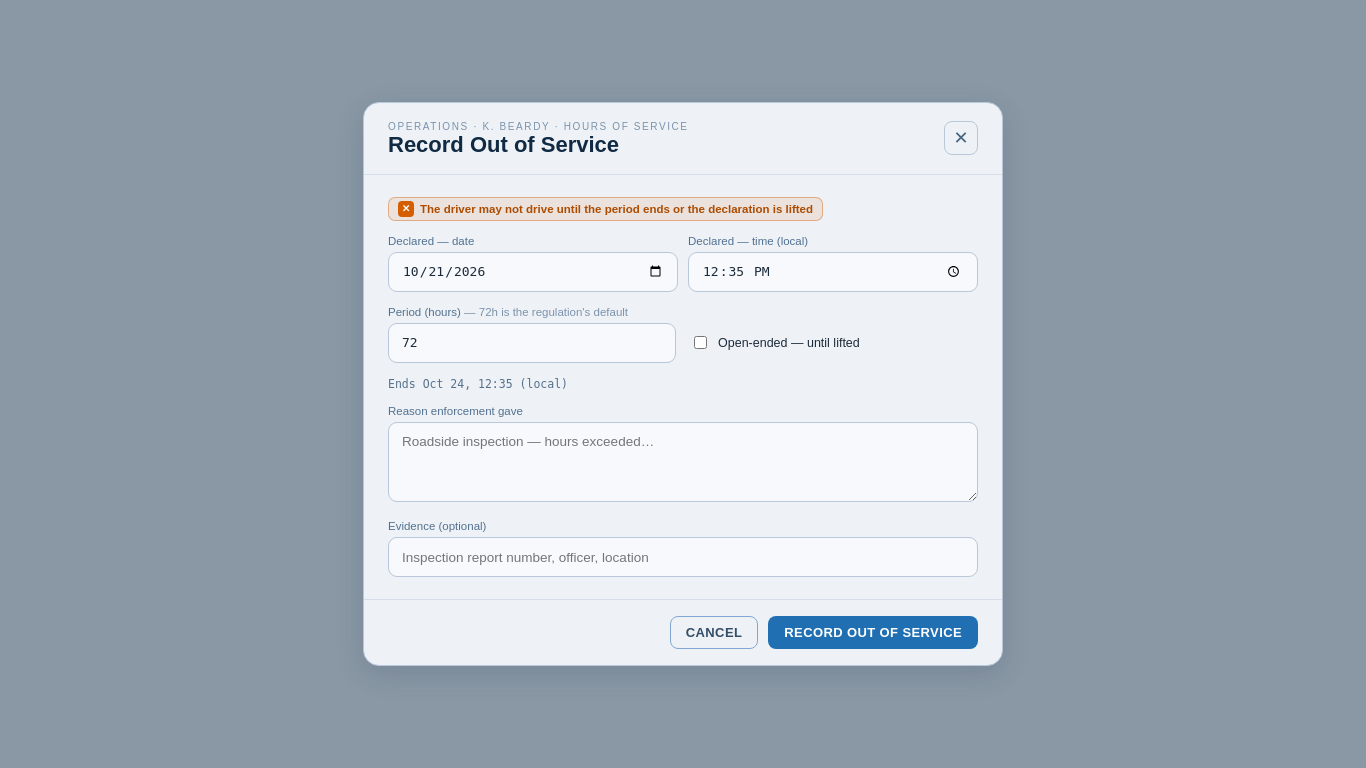
Test: RecordOutOfServiceModal › shows the 409 Drivers.Hos.AlreadyOutOfService sentence verbatim
Type "Hours exceeded" into the text box with placeholder "Roadside inspection — hours exceeded…" at {"x": 683, "y": 462}, box left=388, top=422, right=978, bottom=502
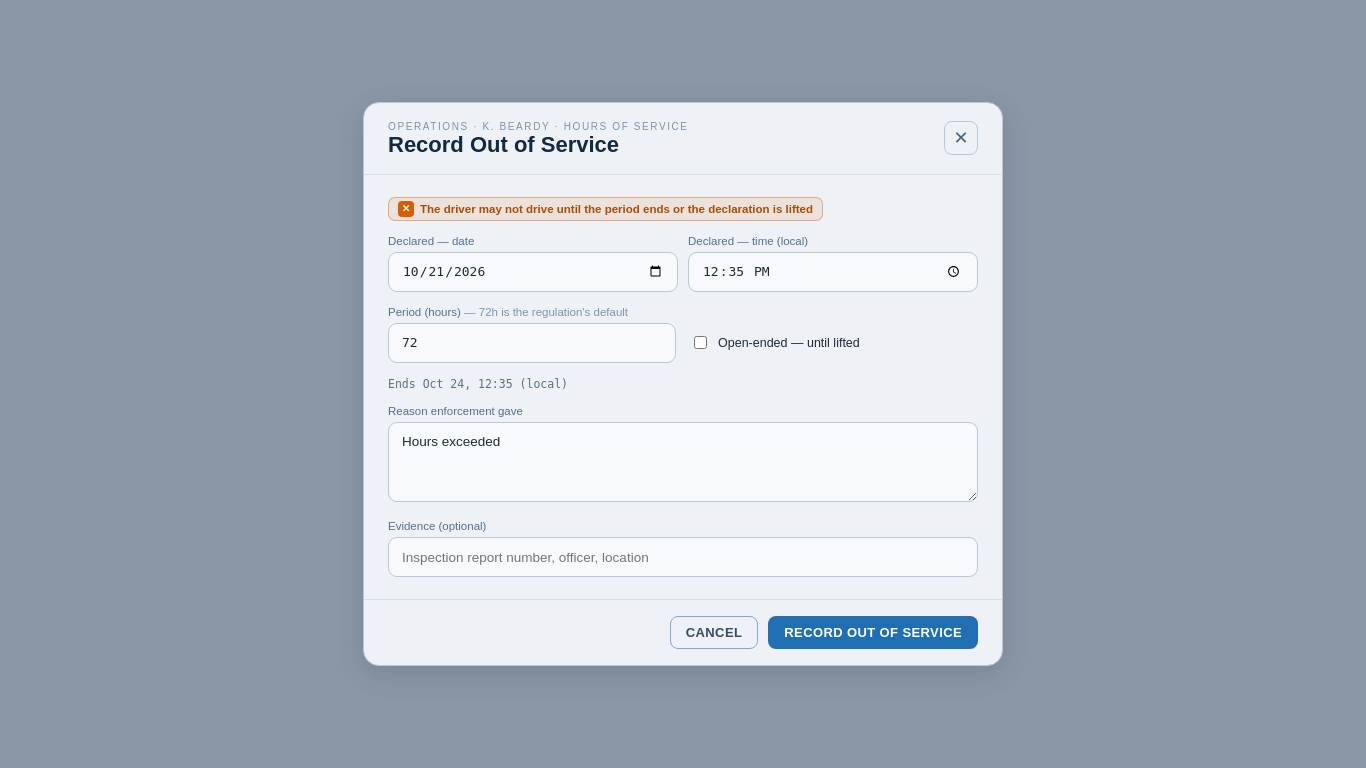
Click the text "RECORD OUT OF SERVICE" at {"x": 873, "y": 633}, box left=768, top=616, right=978, bottom=649
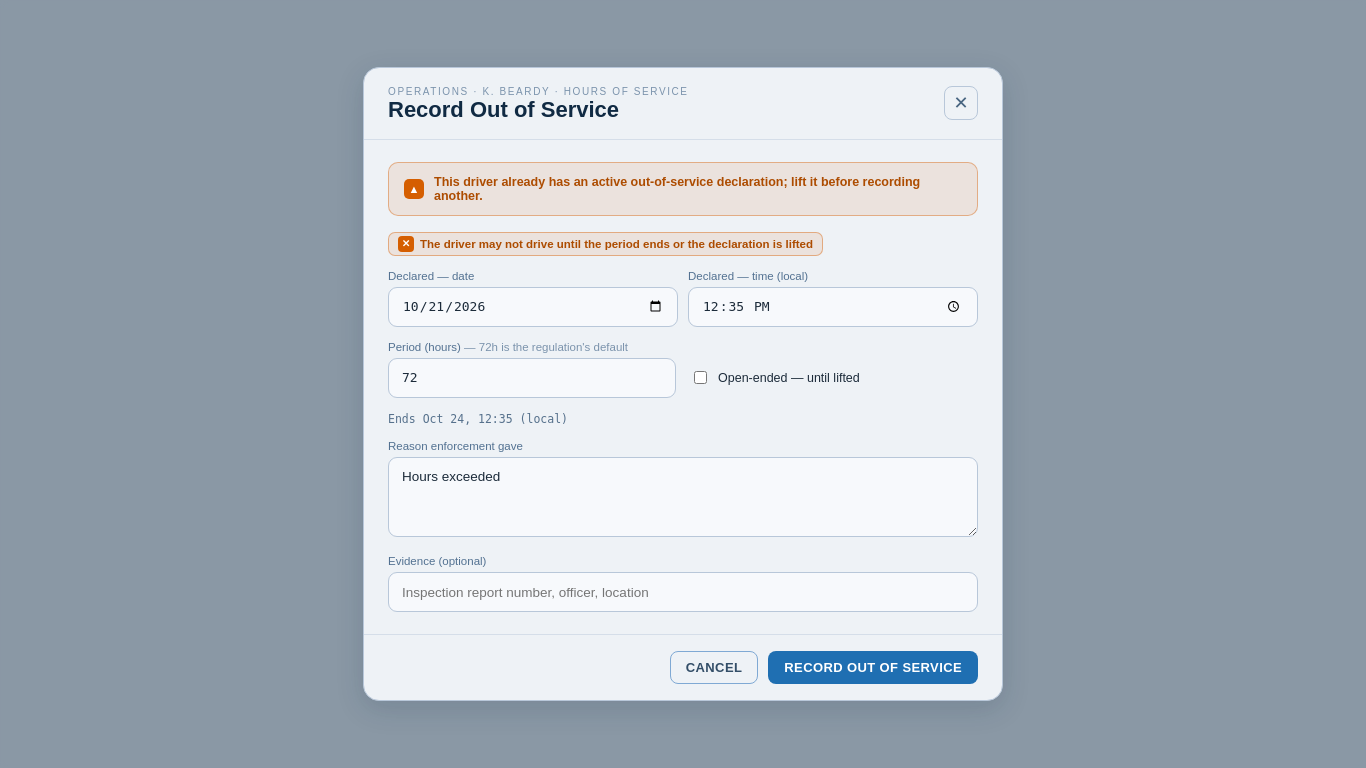
Now the text "This driver already has an active out-of-service declaration; lift it before recording another." is shown, box left=434, top=175, right=920, bottom=203
